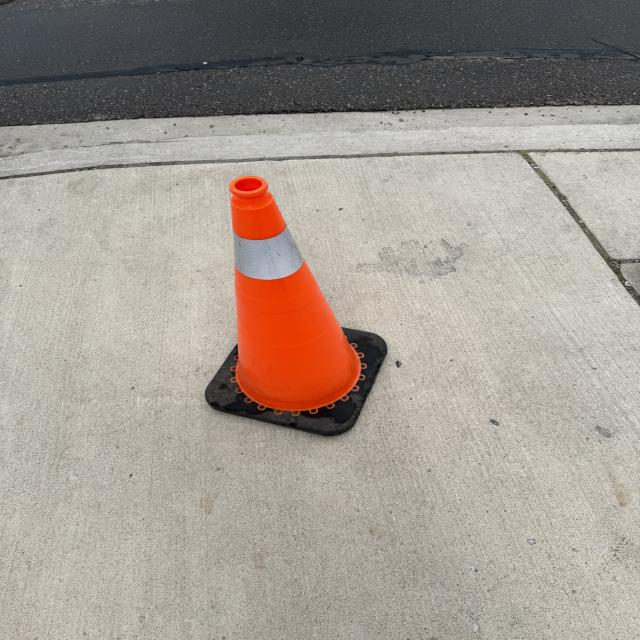Traffic Cone: (203, 177, 390, 435)
